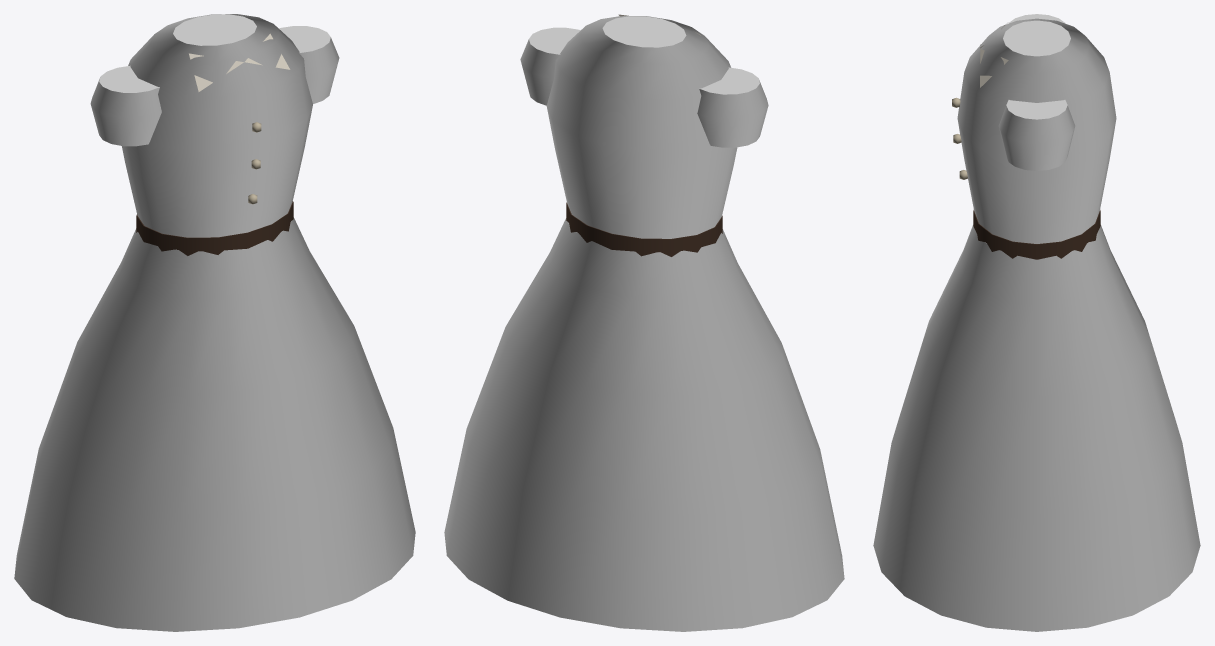
Rendered from outfit_dress.glb.
3 renders of one model, left to right at view 1: azimuth 30°, elevation 25°; view 2: azimuth 150°, elevation 25°; view 3: azimuth 270°, elevation 25°, orthographic. The views are drawn at different scales.
Parts seen in each view (by area): view 1: outfit_dress; view 2: outfit_dress; view 3: outfit_dress.
Boxes of the visible parts, x1,y1,x2,y2 form: outfit_dress: (14,14,415,631); outfit_dress: (444,14,844,631); outfit_dress: (873,14,1200,631).
Size of the model in its own units: 0.72 by 0.985 by 0.576.
